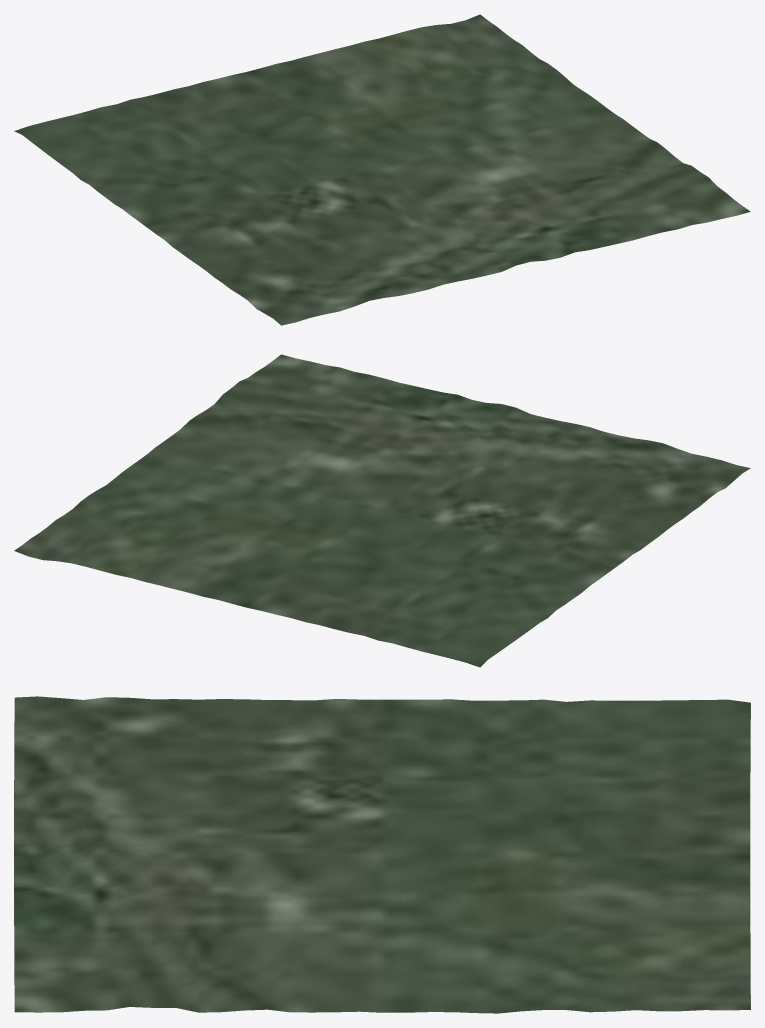
3 views of the same model, one above another, from view 1: azimuth 30°, elevation 25°; view 2: azimuth 150°, elevation 25°; view 3: azimuth 270°, elevation 25° (orthographic). The views are drawn at different scales.
Size of the model in its own units: 62461 by 845 by 62027.
1 material, 1 textured.
